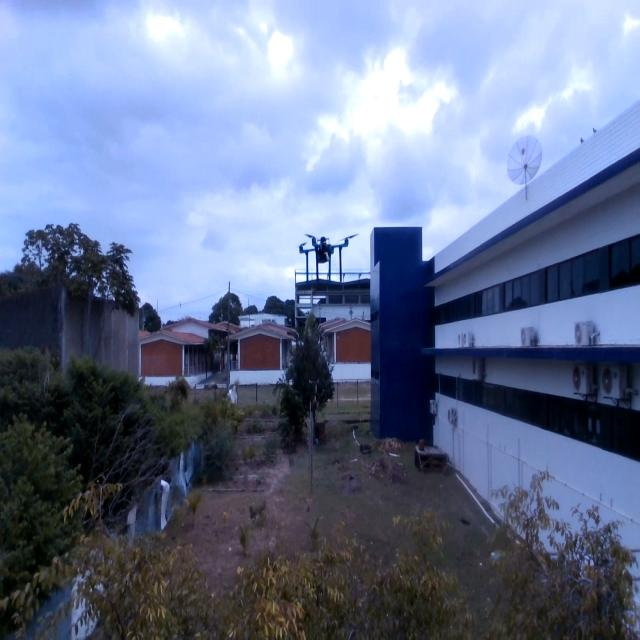-uav-: (292, 218, 363, 292)
